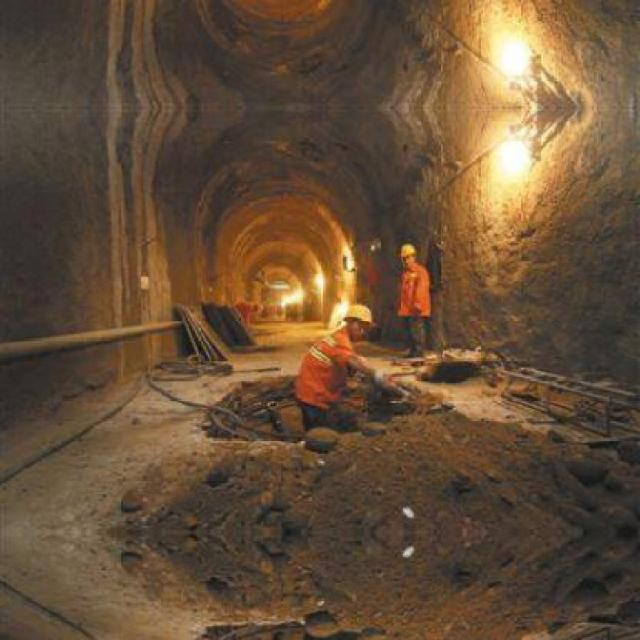helmet: (338, 300, 376, 331), (394, 233, 421, 264)
